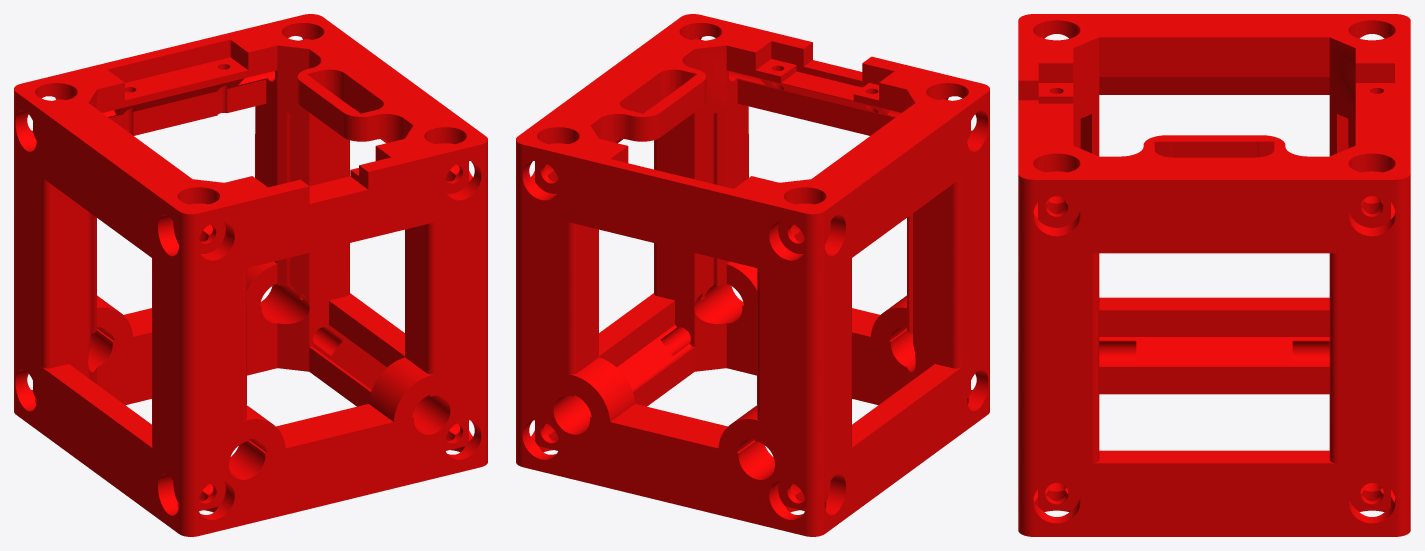
File: Cube 1x1 (Nano Mount).fbx
3 renders of one model, left to right at view 1: azimuth 30°, elevation 25°; view 2: azimuth 150°, elevation 25°; view 3: azimuth 270°, elevation 25°, orthographic. The views are drawn at different scales.
Parts seen in each view (by area): view 1: Base Cube 1x1 (Nano Mount); view 2: Base Cube 1x1 (Nano Mount); view 3: Base Cube 1x1 (Nano Mount).
Boxes of the visible parts, x1,y1,x2,y2 form: Base Cube 1x1 (Nano Mount): (14, 14, 487, 536); Base Cube 1x1 (Nano Mount): (516, 14, 989, 536); Base Cube 1x1 (Nano Mount): (1018, 14, 1410, 536).
Bounding box in the file's own units: 4.98 × 5 × 4.98.
